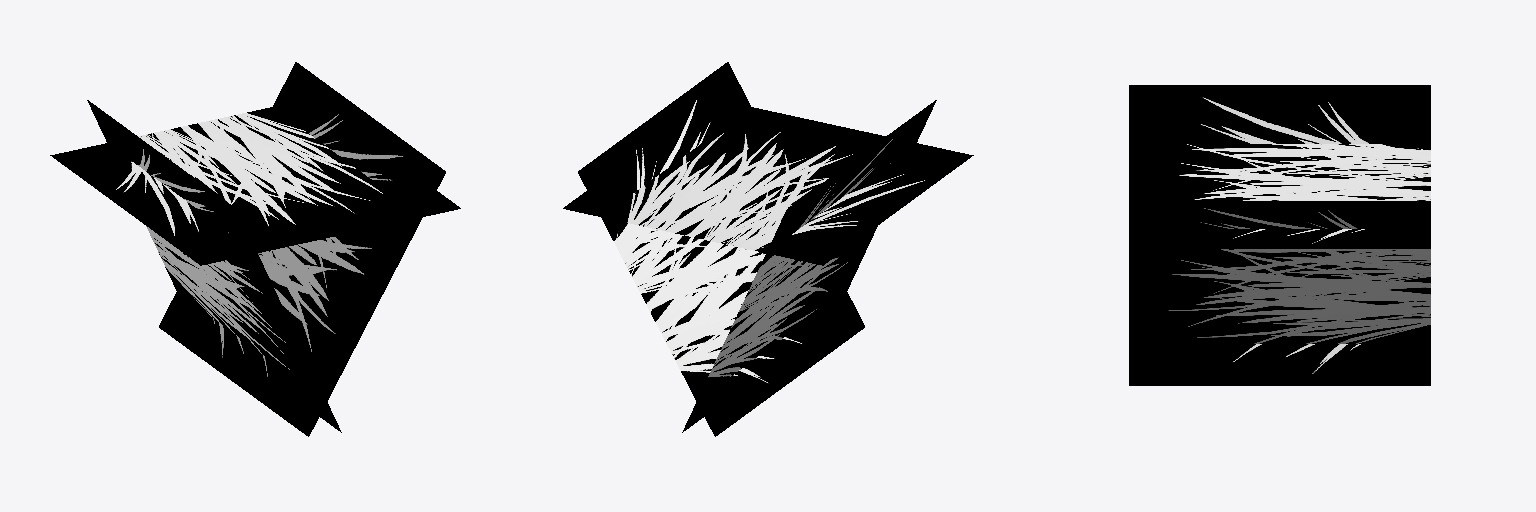
3 views of the same model, side by side, from view 1: azimuth 30°, elevation 25°; view 2: azimuth 150°, elevation 25°; view 3: azimuth 270°, elevation 25° (orthographic).
Parts seen in each view (by area): view 1: Plane; view 2: Plane; view 3: Plane.
Boxes of the visible parts, box(x1,y1,x2,y2) form: Plane: box(50, 62, 460, 436); Plane: box(563, 62, 973, 436); Plane: box(1129, 85, 1430, 385).
Size of the model in its own units: 2 by 1.83 by 2.
1 materials, 1 textured.